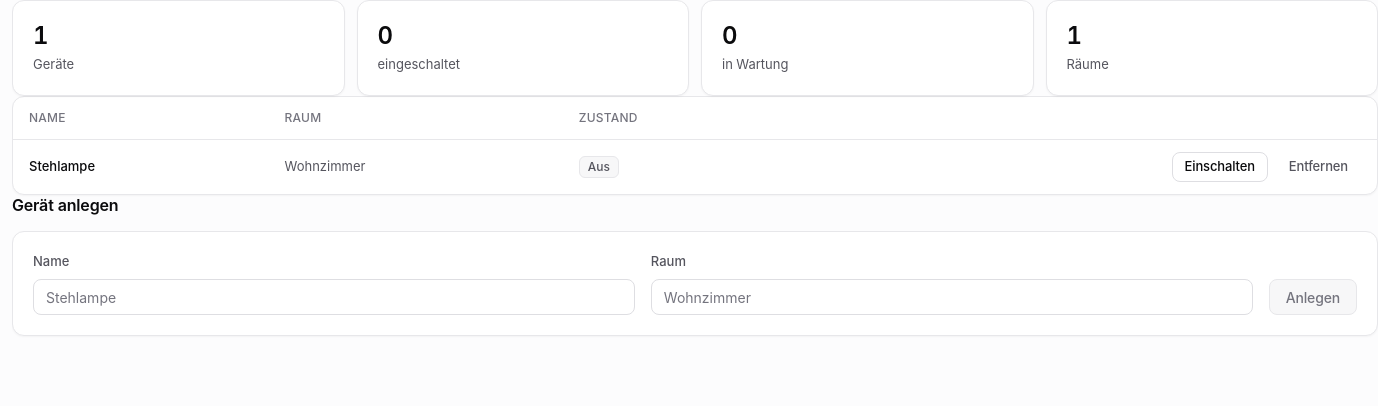
Test: Geräteseite › zeigt die Meldung des Backends, nicht nur den Statuscode
Click the button "Einschalten" at [1220, 166], box [1172, 152, 1268, 182]
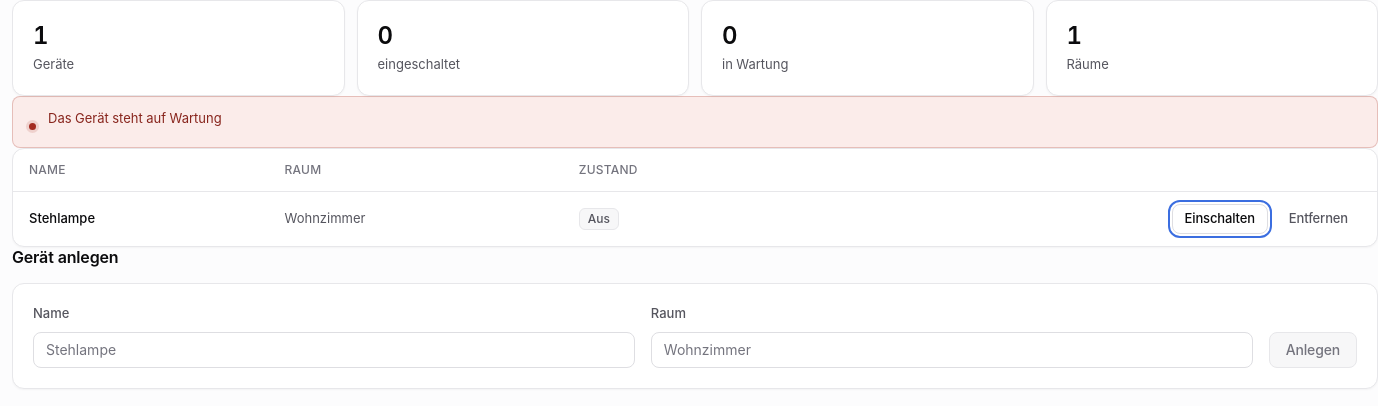
Expected: the message reads "Das Gerät steht auf Wartung", [48, 110, 222, 126]
